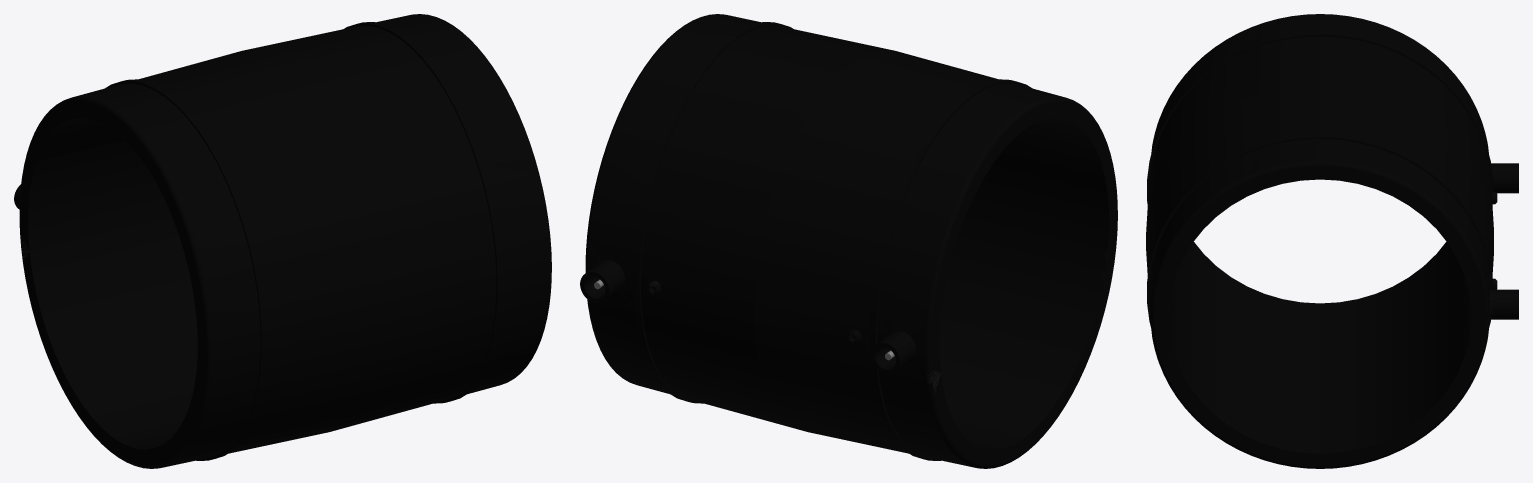
File: mufta.glb
3 renders of one model, left to right at view 1: azimuth 30°, elevation 25°; view 2: azimuth 150°, elevation 25°; view 3: azimuth 270°, elevation 25°, orthographic. The views are drawn at different scales.
Parts seen in each view (by area): view 1: node_id3; view 2: node_id3; view 3: node_id3.
Boxes of the visible parts, left/top/right/bottom form: node_id3: left=14, top=14, right=551, bottom=468; node_id3: left=580, top=14, right=1117, bottom=468; node_id3: left=1146, top=14, right=1518, bottom=468.
Bounding box in the file's own units: 0.512 × 0.5024 × 0.5371.
1 material, 1 textured.
